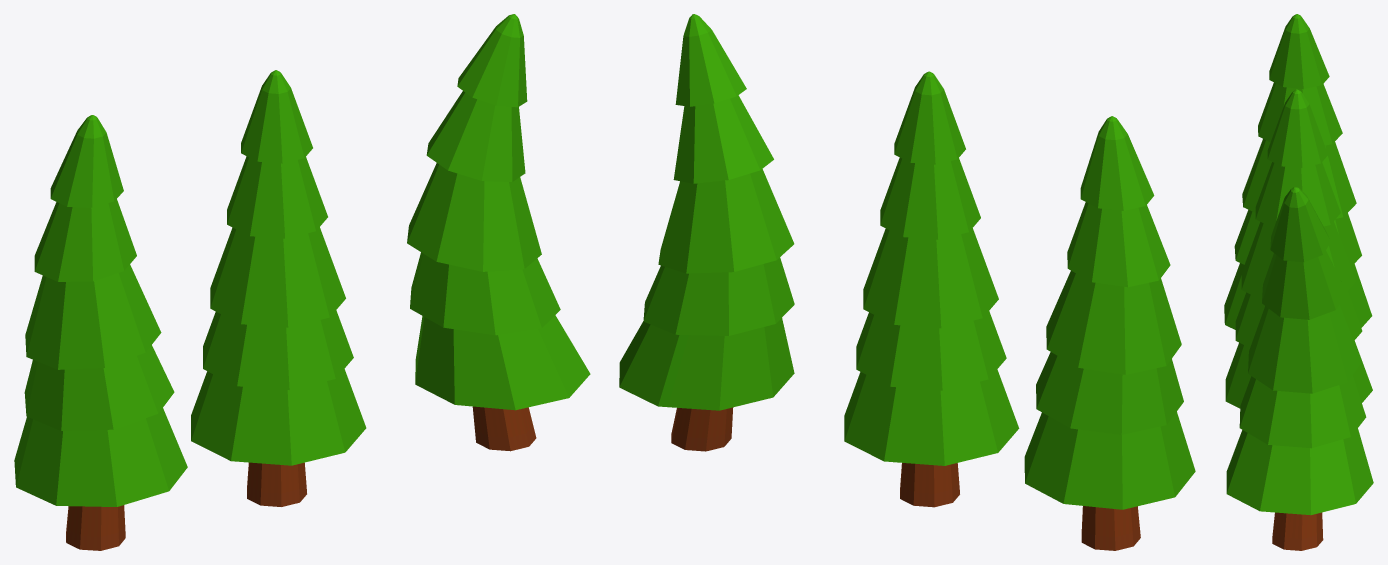
Rendered from tree.glb.
3 views of the same model, side by side, from view 1: azimuth 30°, elevation 25°; view 2: azimuth 150°, elevation 25°; view 3: azimuth 270°, elevation 25° (orthographic). The views are drawn at different scales.
Parts seen in each view (by area): view 1: tree3.005, tree2.005, tree1.005, tree2.003, tree1.003, tree3.003, tree2.004, tree1.004, tree3.004, tree3.002, tree1.002, tree2.002 (+6 smaller); view 2: tree2.005, tree3.005, tree1.005, tree3.003, tree2.003, tree1.003, tree2.004, tree1.004, tree3.004, tree3.002, tree2.002, tree1.002 (+6 smaller); view 3: tree1.005, tree1.003, tree1.004, tree1.002, tree2.002, tree2.001, tree1.001, tree3.001, tree2.003, tree3.003, tree3.002, tree1 (+4 smaller).
Boxes of the visible parts, bbox=[...] form: tree3.005: bbox=[14, 408, 187, 506]; tree2.005: bbox=[191, 369, 366, 465]; tree1.005: bbox=[415, 315, 590, 410]; tree2.003: bbox=[210, 227, 345, 327]; tree1.003: bbox=[407, 163, 541, 271]; tree3.003: bbox=[25, 264, 161, 369]; tree2.004: bbox=[203, 310, 353, 389]; tree1.004: bbox=[410, 252, 560, 335]; tree3.004: bbox=[24, 345, 174, 430]; tree3.002: bbox=[34, 199, 136, 281]; tree1.002: bbox=[426, 91, 525, 181]; tree2.002: bbox=[227, 156, 327, 238]; tree2.005: bbox=[844, 369, 1019, 465]; tree3.005: bbox=[1024, 412, 1195, 509]; tree1.005: bbox=[619, 318, 794, 410]; tree3.003: bbox=[1046, 270, 1181, 374]; tree2.003: bbox=[863, 228, 998, 328]; tree1.003: bbox=[658, 169, 794, 273]; tree2.004: bbox=[856, 311, 1006, 390]; tree1.004: bbox=[643, 257, 794, 335]; tree3.004: bbox=[1036, 352, 1183, 434]; tree3.002: bbox=[1067, 202, 1170, 287]; tree2.002: bbox=[880, 157, 980, 239]; tree1.002: bbox=[673, 95, 773, 183]; tree1.005: bbox=[1226, 428, 1373, 515]; tree1.003: bbox=[1248, 305, 1361, 393]; tree1.004: bbox=[1239, 375, 1366, 448]; tree1.002: bbox=[1262, 250, 1346, 319]; tree2.002: bbox=[1255, 162, 1340, 228]; tree2.001: bbox=[1267, 89, 1327, 167]; tree1.001: bbox=[1270, 187, 1330, 262]; tree3.001: bbox=[1269, 14, 1329, 89]; tree2.003: bbox=[1241, 221, 1355, 299]; tree3.003: bbox=[1242, 139, 1356, 218]; tree3.002: bbox=[1258, 82, 1342, 145]; tree1: bbox=[1272, 512, 1323, 550].
Bounding box in the file's own units: 11.52 × 8.4 × 3.2.
Materials: 1 (1 with a texture image).
